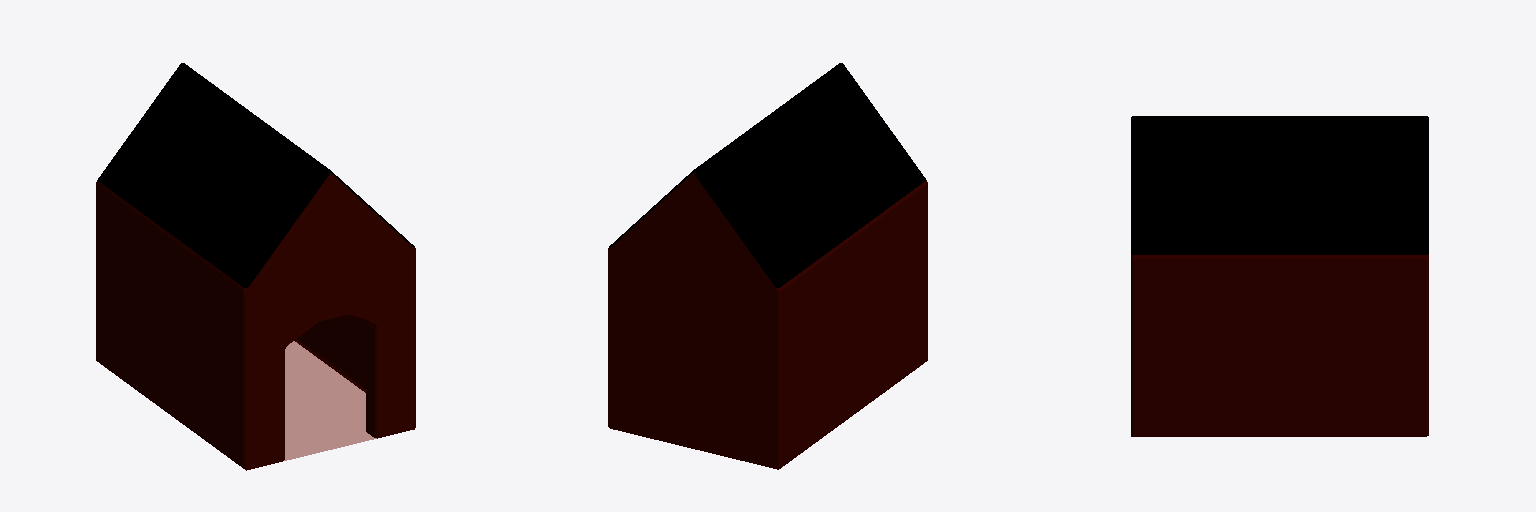
Rendered from dog_shed.obj.
3 renders of one model, left to right at view 1: azimuth 30°, elevation 25°; view 2: azimuth 150°, elevation 25°; view 3: azimuth 270°, elevation 25°, orthographic.
Parts seen in each view (by area): view 1: Cube_Cube.001; view 2: Cube_Cube.001; view 3: Cube_Cube.001.
Part boxes in pixels (left/top/right/bottom): Cube_Cube.001: left=96, top=63, right=415, bottom=470; Cube_Cube.001: left=608, top=63, right=927, bottom=469; Cube_Cube.001: left=1131, top=116, right=1428, bottom=436.
Bounding box in the file's own units: 1 × 1.54 × 1.5.